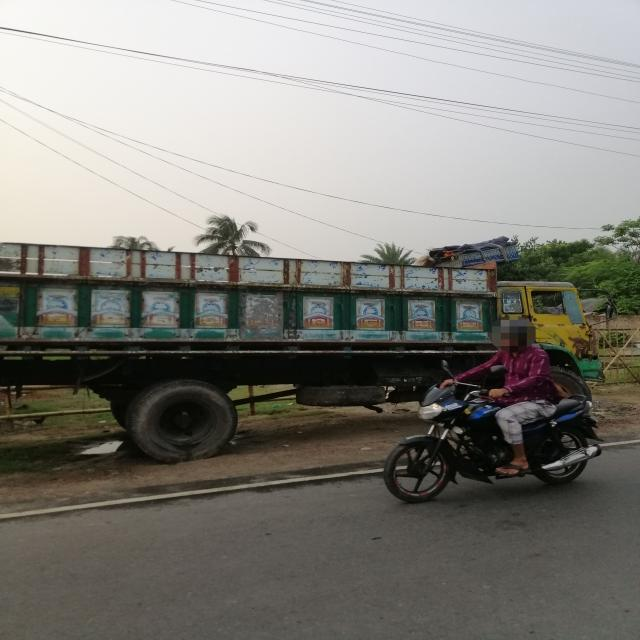Motorbike: (372, 370, 607, 509)
